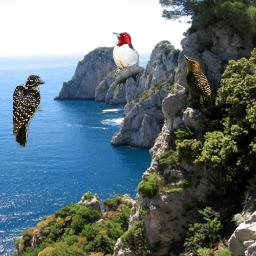Woodpecker: (13, 74, 45, 148), (111, 32, 140, 90), (183, 55, 211, 109)
